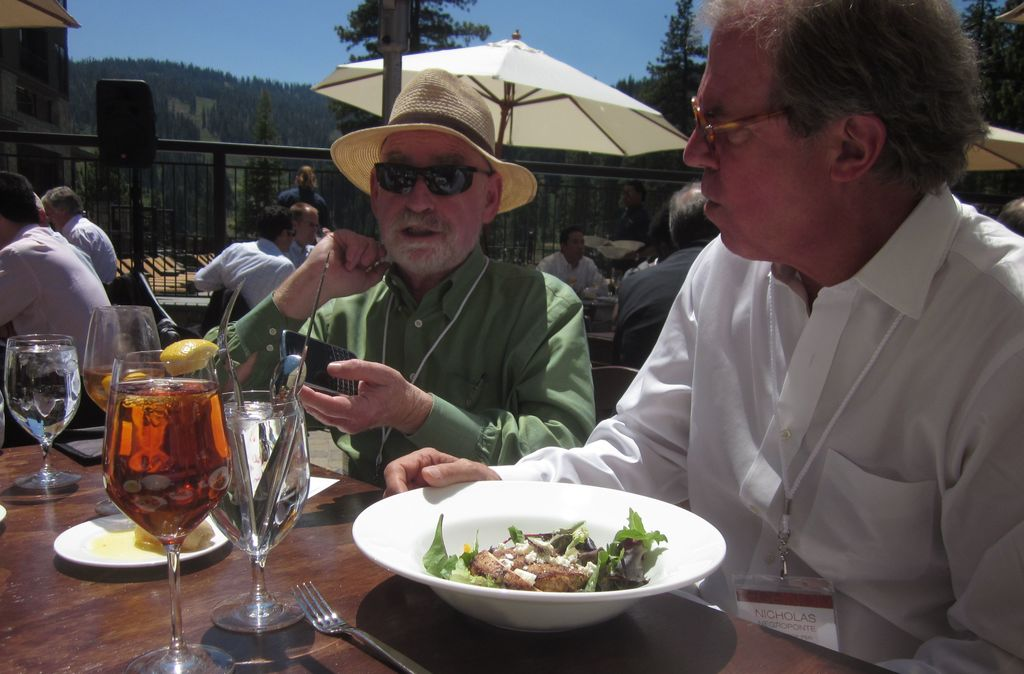salad: (426, 502, 675, 605)
